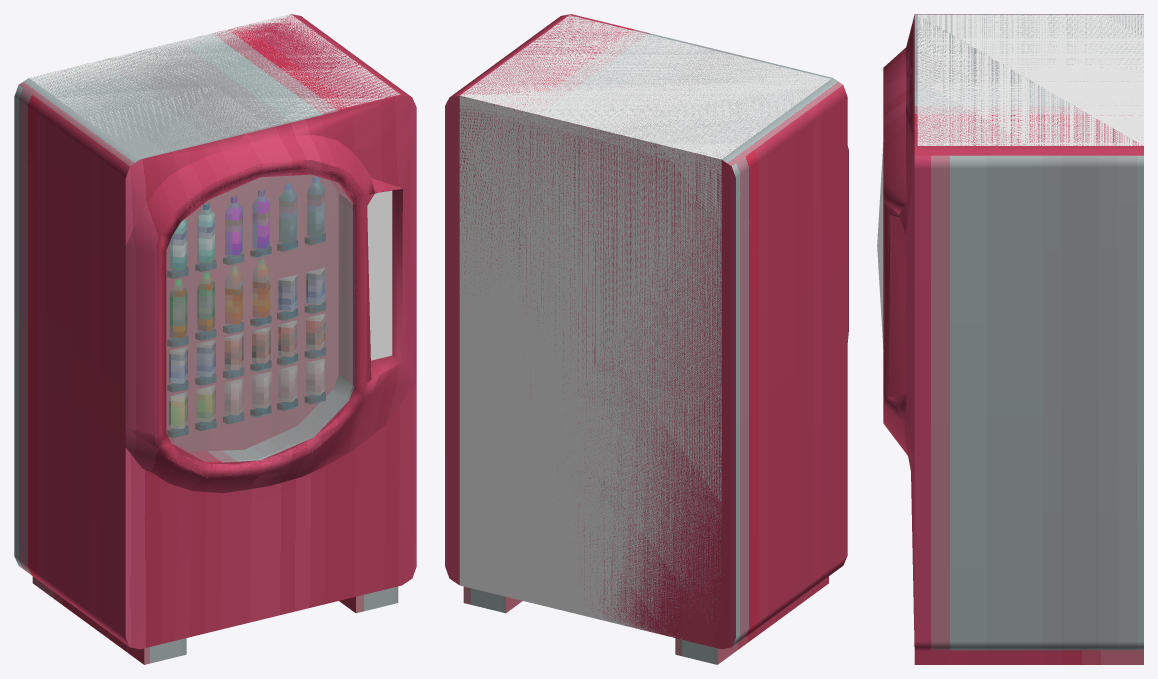
The model's file is objects_un_drinkmachine02.gltf.
3 views of the same model, side by side, from view 1: azimuth 30°, elevation 25°; view 2: azimuth 150°, elevation 25°; view 3: azimuth 270°, elevation 25° (orthographic). The views are drawn at different scales.
Parts seen in each view (by area): view 1: um_objects_un_drinkmachine02_model_lod0Shape:objects_un_drin (×4), um_objects_un_drinkmachine02_model_lod1Shape:objects_un_drin (×3); view 2: um_objects_un_drinkmachine02_model_lod0Shape:objects_un_drin (×2); view 3: um_objects_un_drinkmachine02_model_lod0Shape:objects_un_drin (×3), um_objects_un_drinkmachine02_model_lod1Shape:objects_un_drin (×2).
Part boxes in pixels (x1,y1,x2,y2): um_objects_un_drinkmachine02_model_lod0Shape:objects_un_drin (×4): (14,14,416,664); um_objects_un_drinkmachine02_model_lod1Shape:objects_un_drin (×3): (125,95,416,649); um_objects_un_drinkmachine02_model_lod0Shape:objects_un_drin (×2): (445,14,848,664); um_objects_un_drinkmachine02_model_lod0Shape:objects_un_drin (×3): (877,14,1143,664); um_objects_un_drinkmachine02_model_lod1Shape:objects_un_drin (×2): (877,67,914,646).
Size of what is drawn, in the model's own units: 1.21 by 2.01 by 0.9341.
Materials: 4 (3 with a texture image).
